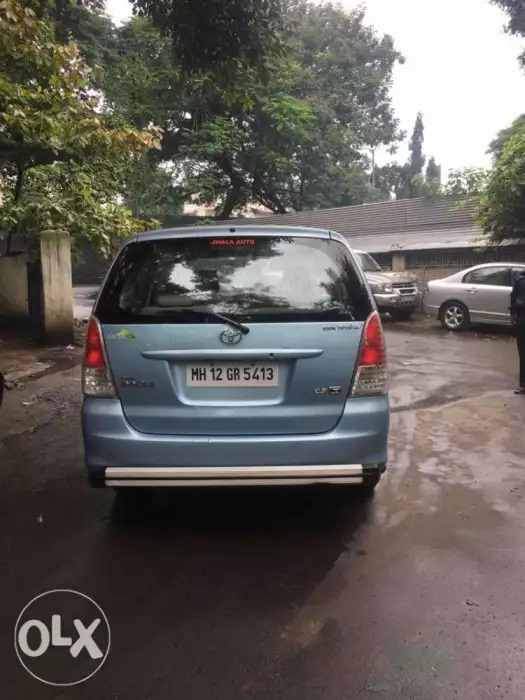licenseplate: (181, 356, 290, 391)
